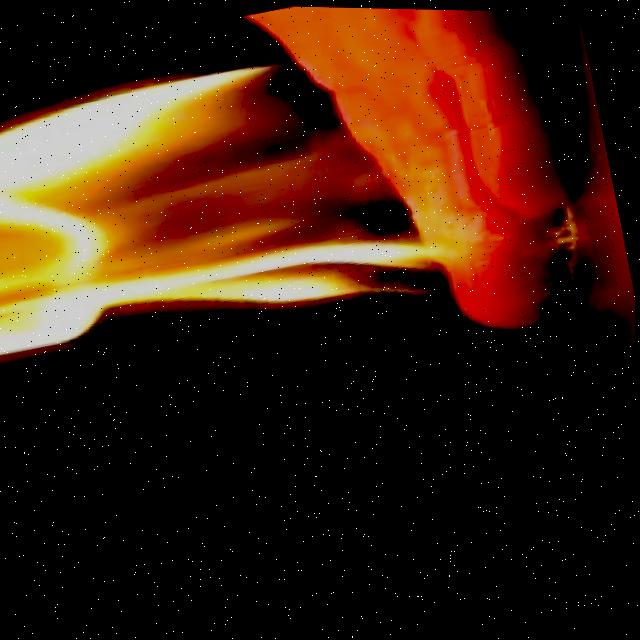Fire: (0, 0, 469, 392)
